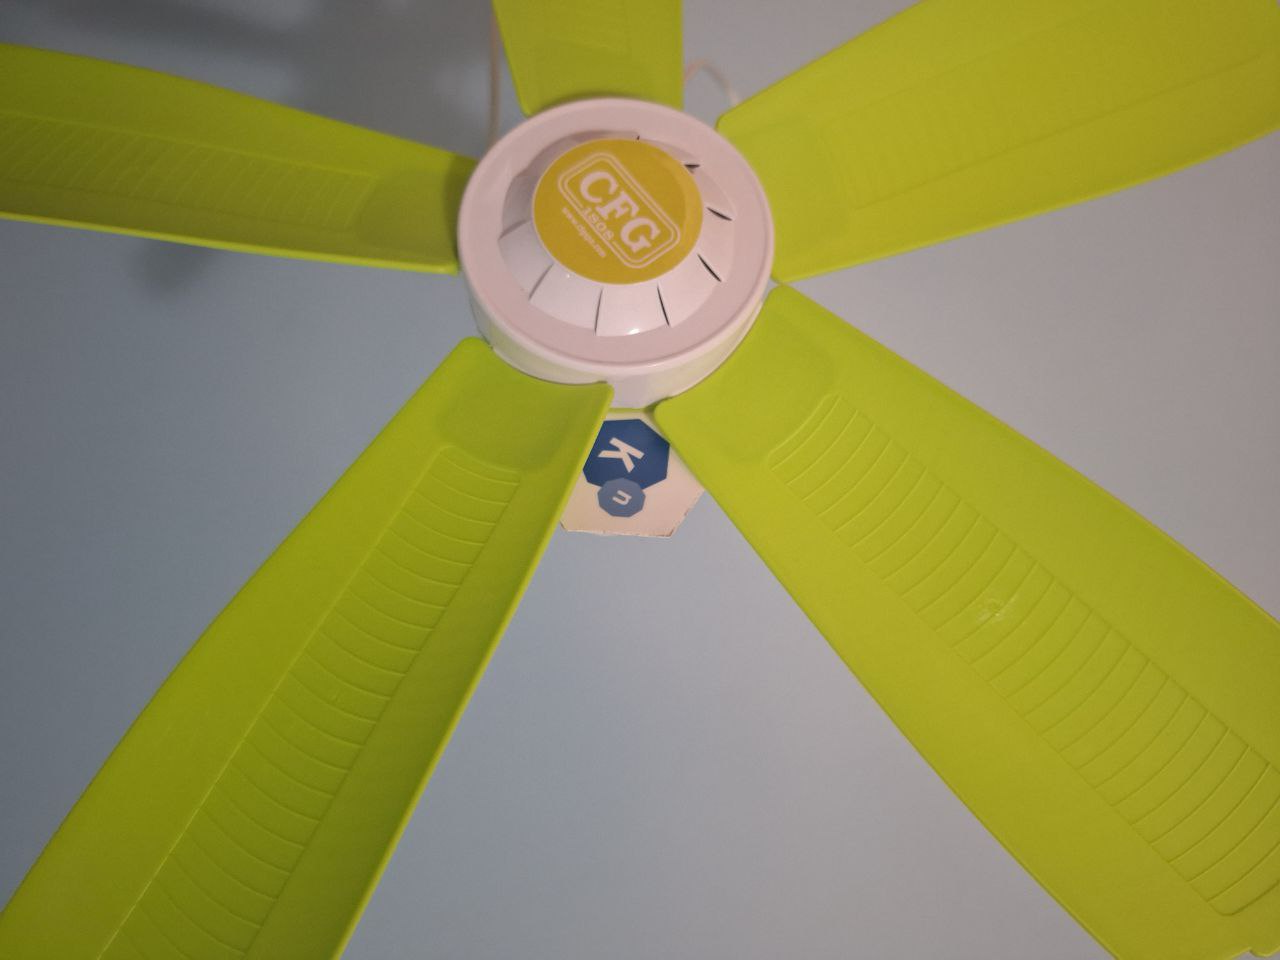knative: (580, 416, 670, 519)
